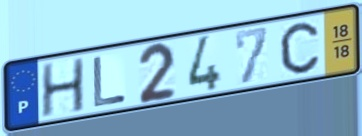2: (137, 40, 178, 106)
4: (186, 32, 225, 94)
7: (233, 25, 269, 87)
C: (278, 20, 322, 76)
H: (39, 55, 87, 120)
L: (90, 54, 128, 110)
